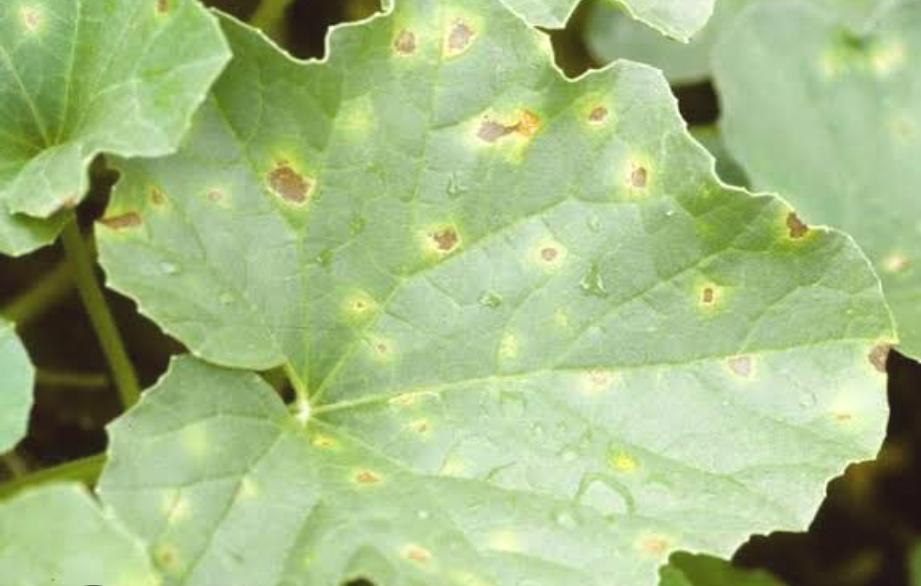Bok-Choy-Diseased: (183, 12, 794, 412)
